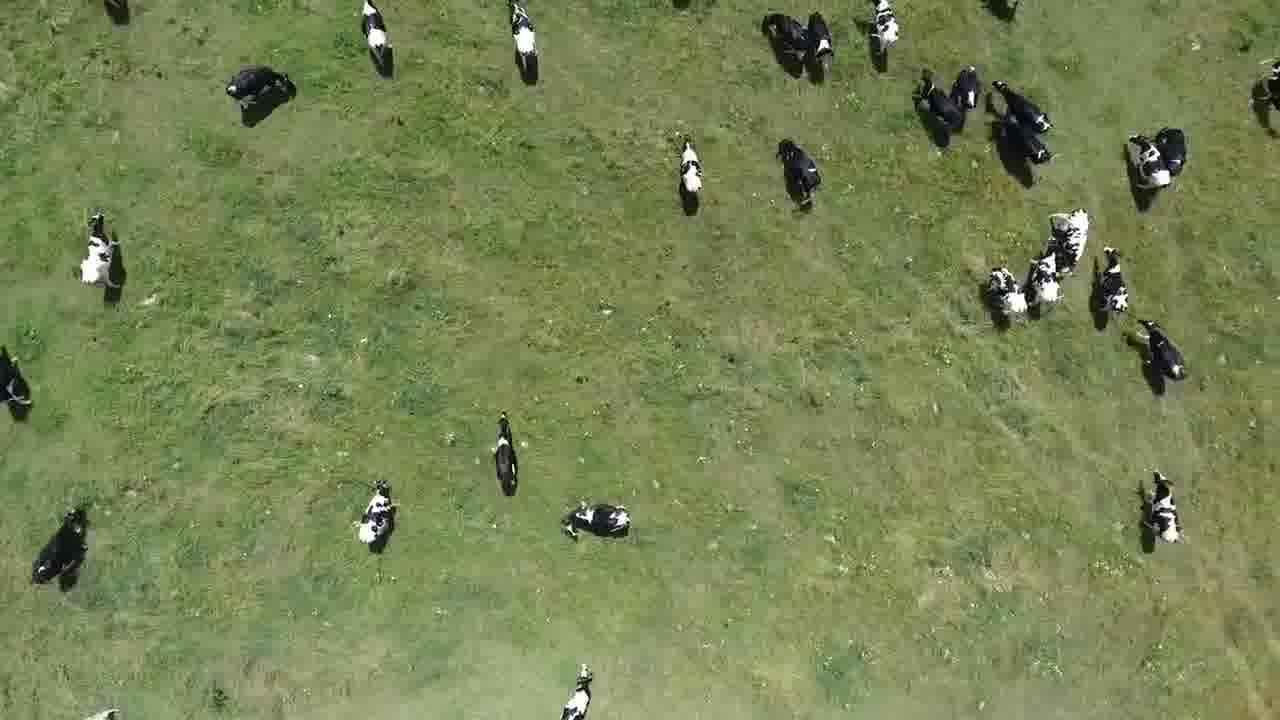cow: (31, 506, 88, 587), (76, 213, 128, 297), (1128, 317, 1192, 384), (559, 496, 635, 546), (991, 73, 1053, 134), (1140, 469, 1187, 548), (359, 0, 402, 85), (994, 115, 1058, 170), (777, 139, 832, 203), (1123, 132, 1173, 198), (502, 0, 543, 79), (1092, 242, 1134, 319), (1045, 205, 1095, 268), (224, 63, 299, 105), (358, 475, 399, 550), (553, 655, 599, 720), (490, 410, 525, 495), (921, 76, 973, 133), (1024, 250, 1068, 316), (865, 0, 911, 63), (763, 4, 812, 63), (985, 264, 1030, 327), (1250, 50, 1280, 131), (675, 134, 708, 205), (1154, 119, 1192, 177), (948, 63, 988, 114), (0, 362, 36, 413), (807, 14, 838, 64)
